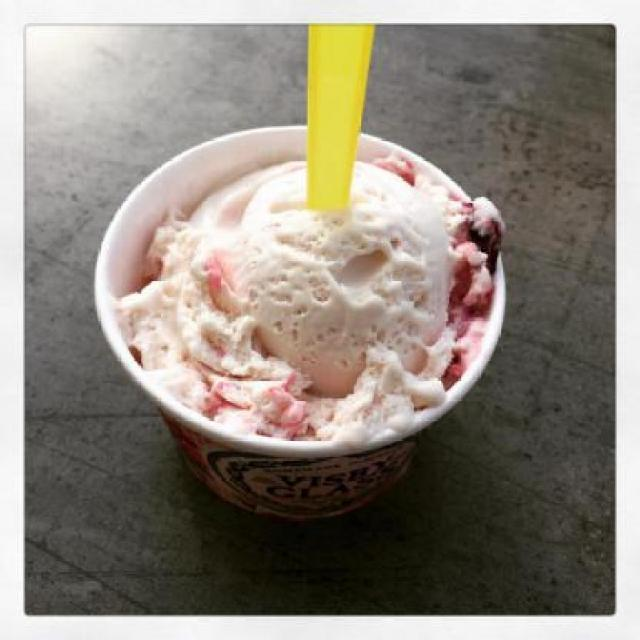Ice cream: (114, 152, 512, 442)
